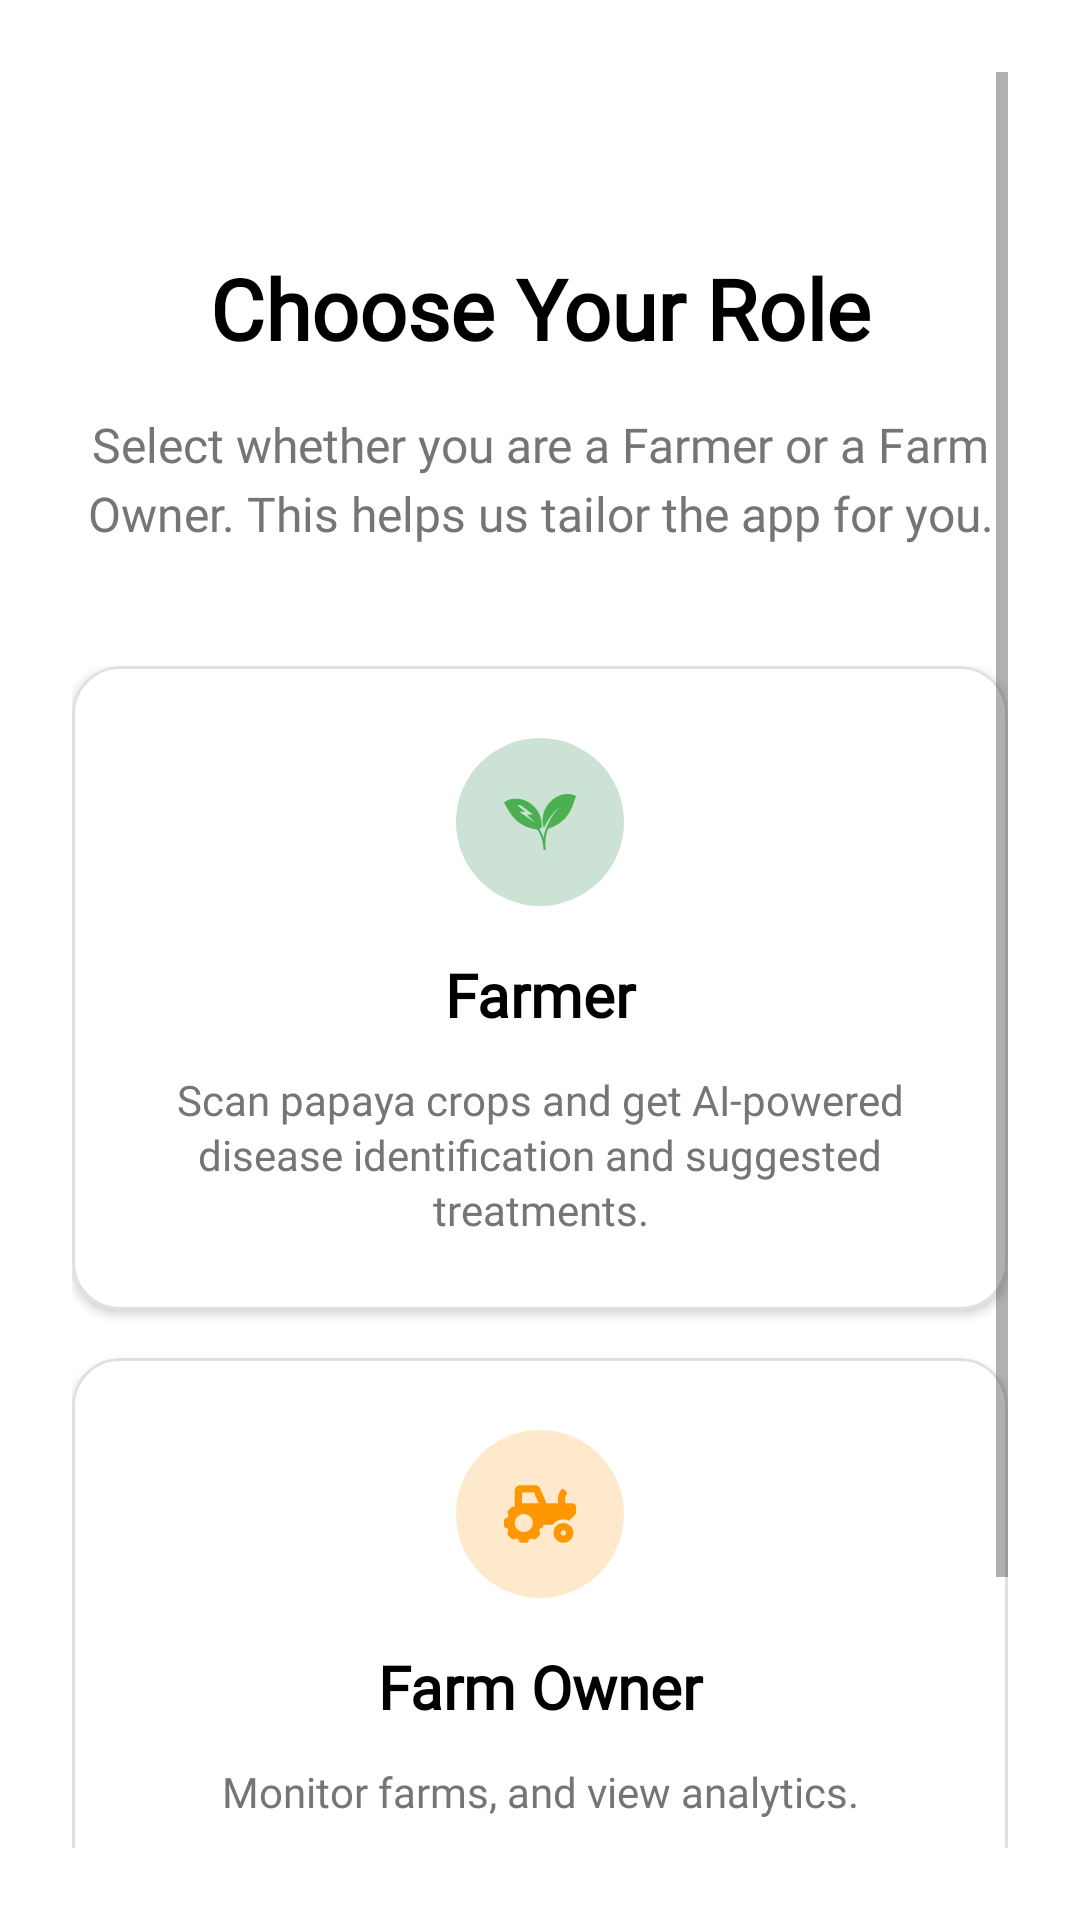

Icon click points for this 1080×1920 phone screenshot, format [x,y]:
leave: [540,822]
